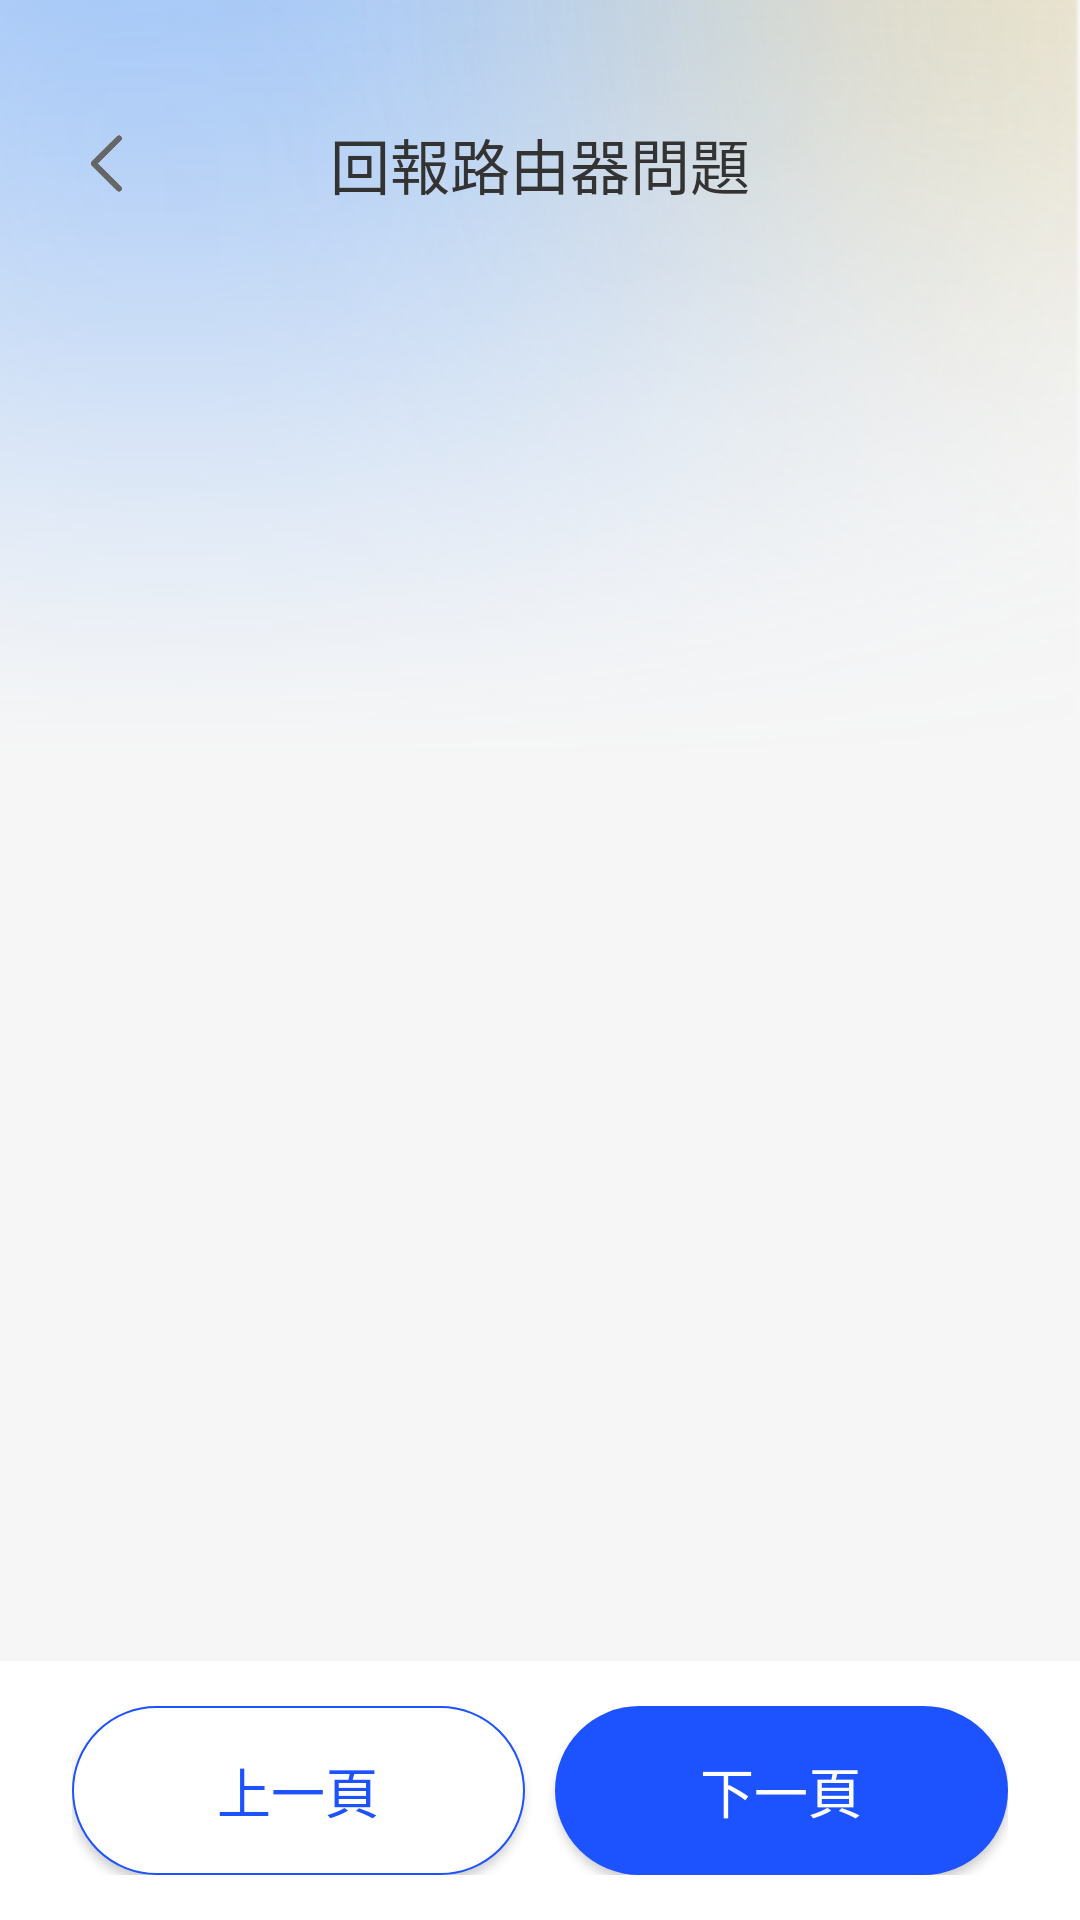

Named icons in this screenshot (1080x1920) and their centers, (x=x, y=y):
back: (x=106, y=163)
